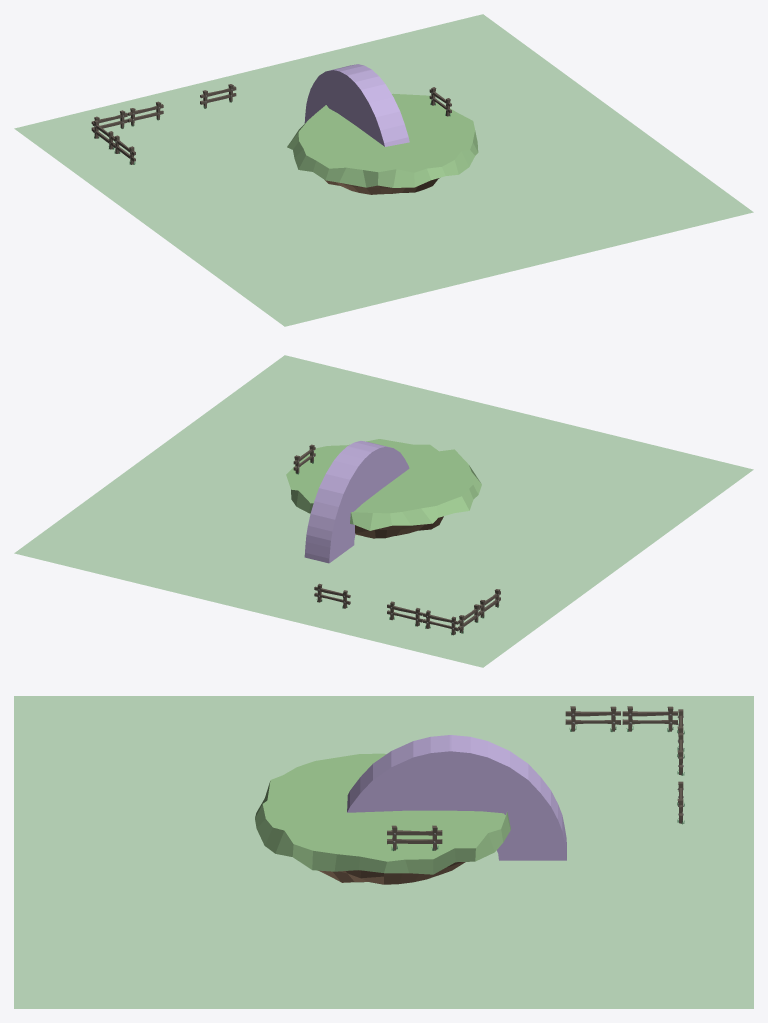
Rendered from fence.glb.
3 renders of one model, top to bottom at view 1: azimuth 30°, elevation 25°; view 2: azimuth 150°, elevation 25°; view 3: azimuth 270°, elevation 25°, orthographic. The views are drawn at different scales.
Parts seen in each view (by area): view 1: Plane, Cylinder, Cube.003; view 2: Plane, Cylinder, Cube.003; view 3: Plane, Cylinder, Cube.003, Cube.006, Cube.001, Cube.002.
Boxes of the visible parts, x1,y1,x2,y2 form: Plane: (14,14,753,326); Cylinder: (287,93,478,194); Cube.003: (304,64,409,146); Plane: (14,355,753,667); Cylinder: (286,439,481,538); Cube.003: (304,441,409,563); Plane: (14,696,753,1008); Cylinder: (255,753,510,884); Cube.003: (347,735,566,860); Cube.006: (387,825,442,850); Cube.001: (622,706,677,731); Cube.002: (565,706,620,731).
Size of the model in its own units: 100 by 22.18 by 100.
